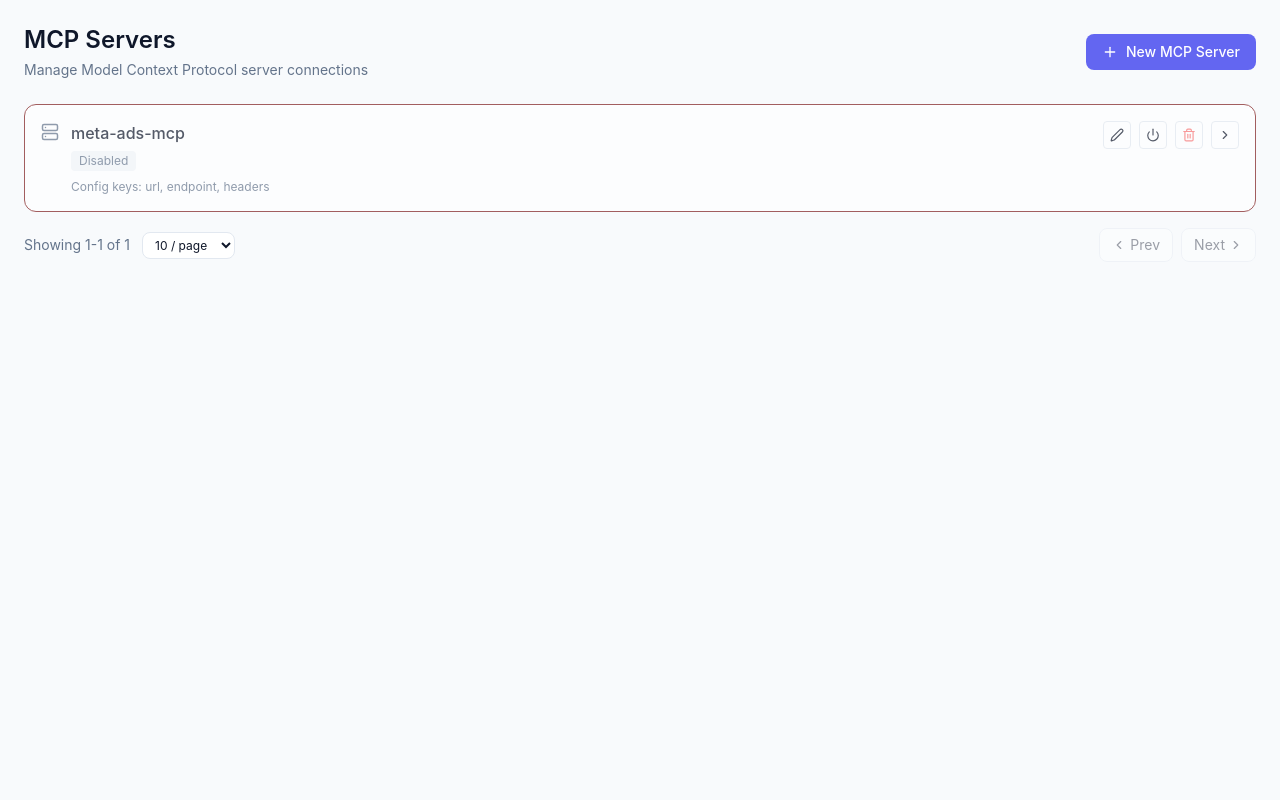
Test: MCP server modal › masks sensitive configuration values until explicitly revealed
Check: the text "meta-ads-mcp" is shown, box [71,123,185,143]
Click the button titled "Edit" at (1117, 135), box [1103,121,1131,149]
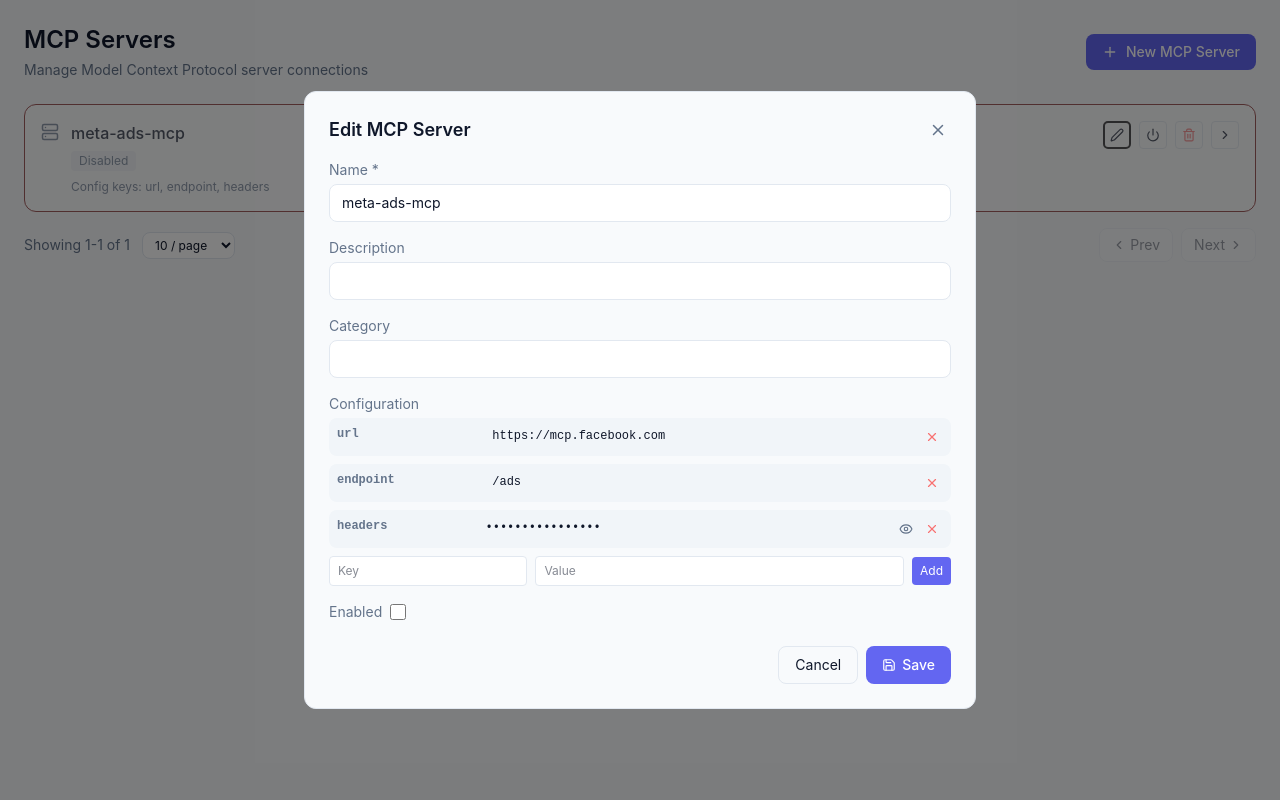
Check: the text "{\"Authorization\":\"Bearer top-secret-token\"}" is not shown
Check: the text "••••••••••••••••" is shown, box [486,521,601,535]
Click the button named "Reveal headers value" at (906, 529), box [895,518,917,540]
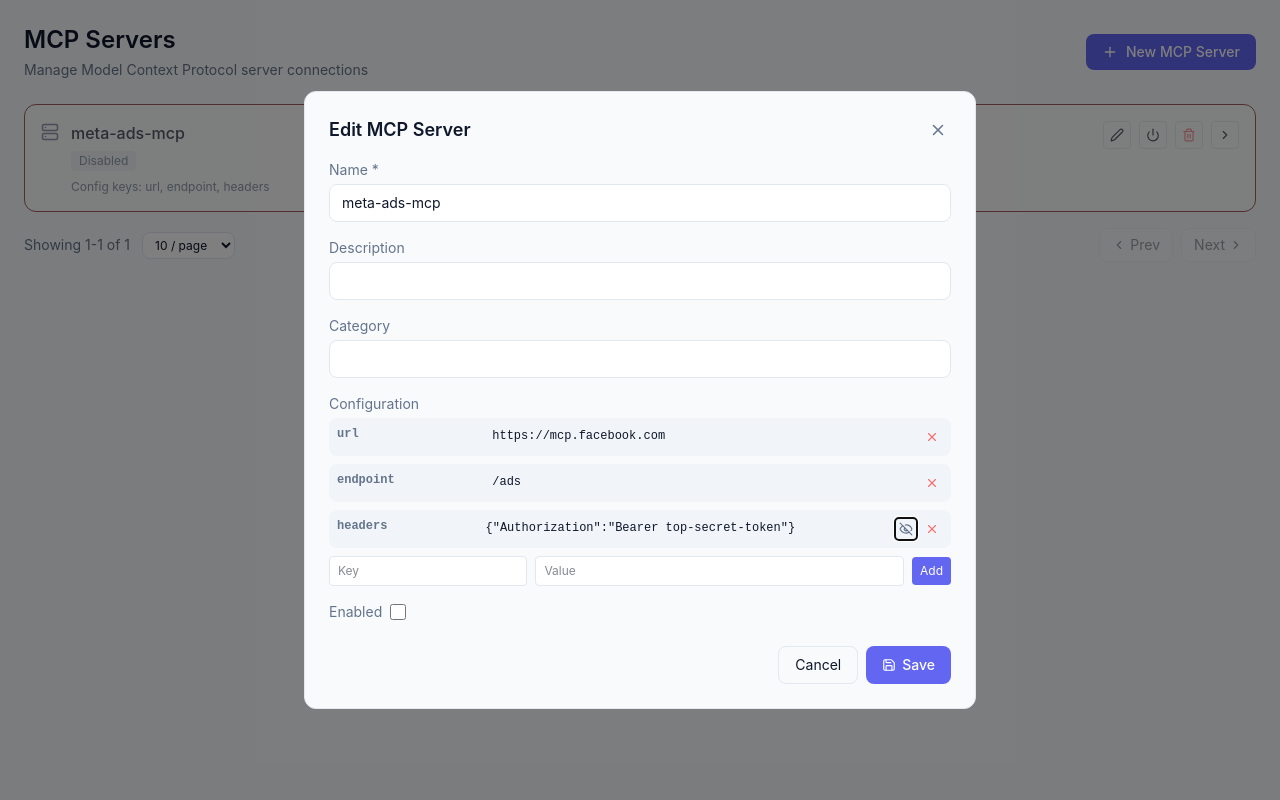
Check: the text "{\"Authorization\":\"Bearer top-secret-token\"}" is shown, box [486,521,795,535]
Check: the button named "Hide headers value" is shown, box [895,518,917,540]
